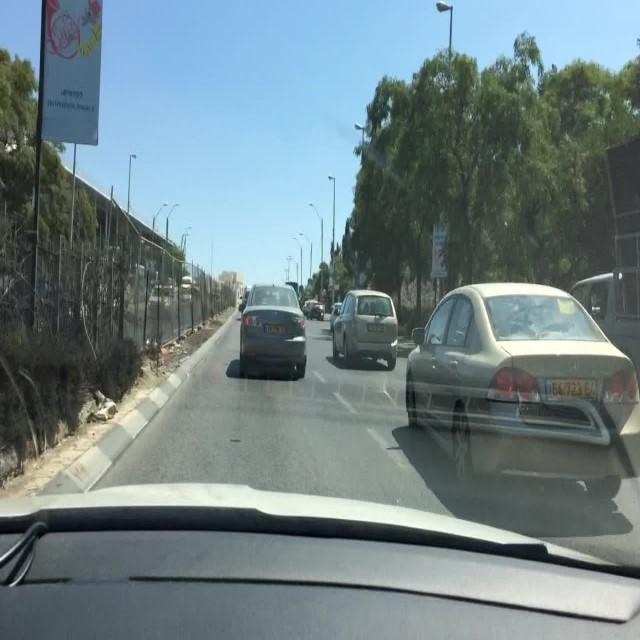normal: (207, 222, 441, 425)
